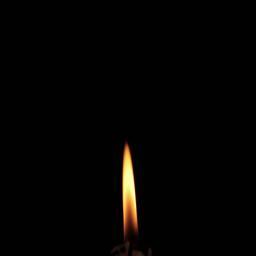fire: (121, 144, 139, 232)
